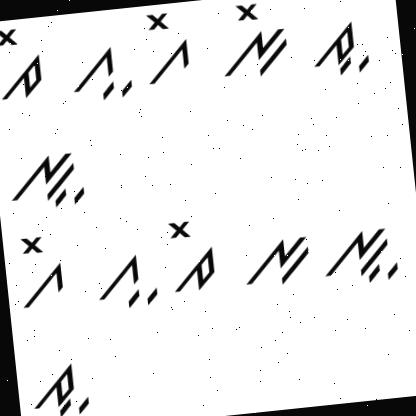gah: (84, 250, 162, 316), (68, 40, 135, 112)
go: (138, 6, 198, 91), (12, 226, 69, 310)
nga: (242, 226, 314, 294)
ngah: (317, 206, 400, 294), (3, 143, 88, 217)
ngo: (217, 0, 296, 85)
tah: (304, 13, 374, 84), (28, 351, 95, 416)
to: (162, 214, 220, 301), (0, 21, 47, 104)
